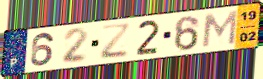2: (61, 27, 90, 65), (135, 19, 161, 57)
6: (174, 14, 201, 52), (30, 31, 56, 68)
M: (200, 9, 239, 49)
Z: (99, 23, 132, 61)
